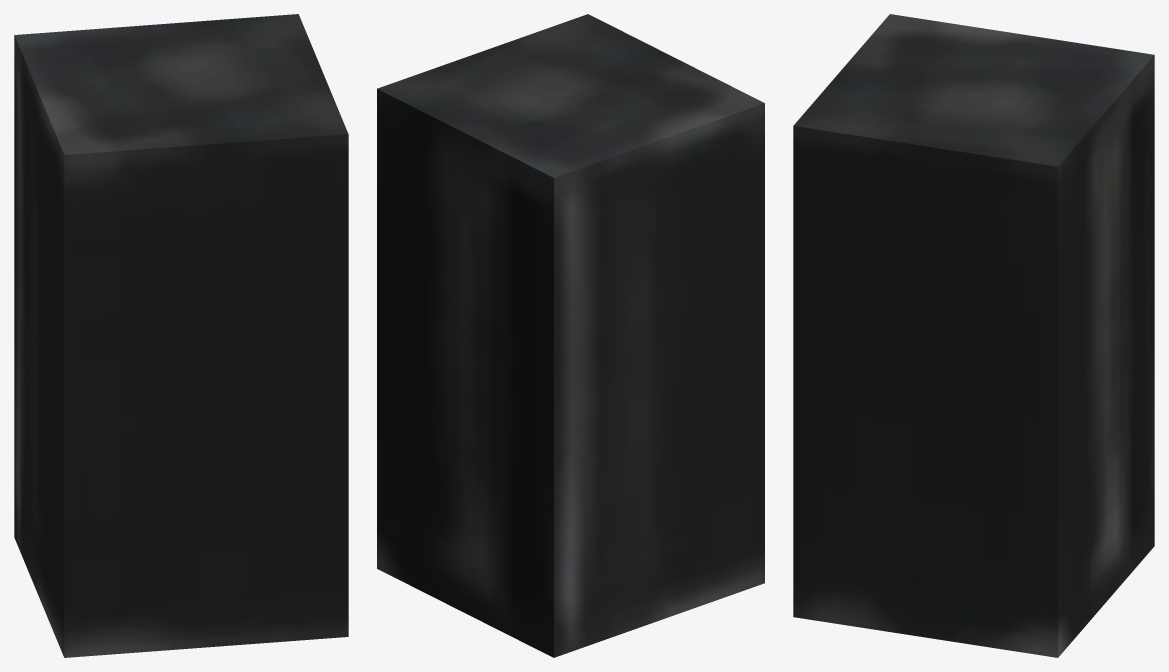
The model's file is center_frame__rack_tooth_4.glb.
3 views of the same model, side by side, from view 1: azimuth 30°, elevation 25°; view 2: azimuth 150°, elevation 25°; view 3: azimuth 270°, elevation 25° (orthographic). The views are drawn at different scales.
Parts seen in each view (by area): view 1: world; view 2: world; view 3: world.
Boxes of the visible parts, x1,y1,x2,y2 form: world: (14, 14, 348, 657); world: (377, 14, 764, 657); world: (793, 14, 1154, 657).
Size of the model in its own units: 0.0333 by 0.05 by 0.0333.
1 material, 1 textured.
